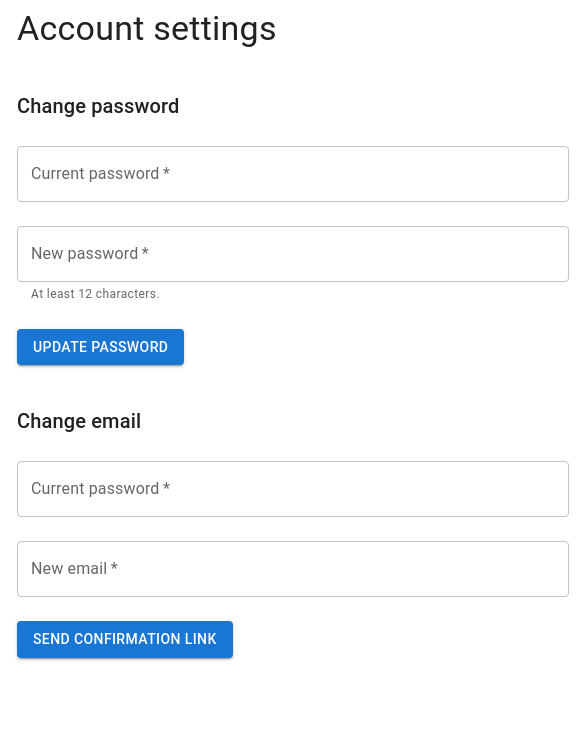
Test case: AccountPage › confirms the password change and clears the form on success
The image size is (586, 742).
In the password field labelled "Current password *" below "Change password": (293, 174) [17,146,569,202], type "the-old-password"
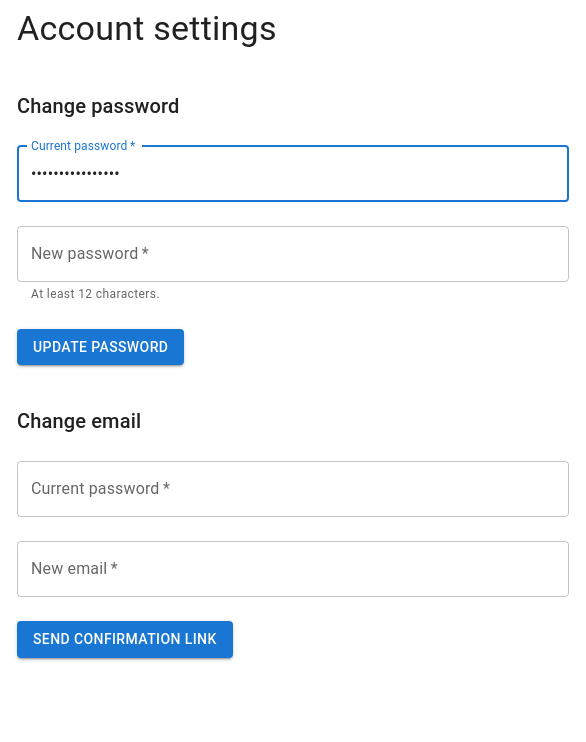
In the password field labelled "New password *": (293, 254) [17,226,569,282], type "a-brand-new-password"
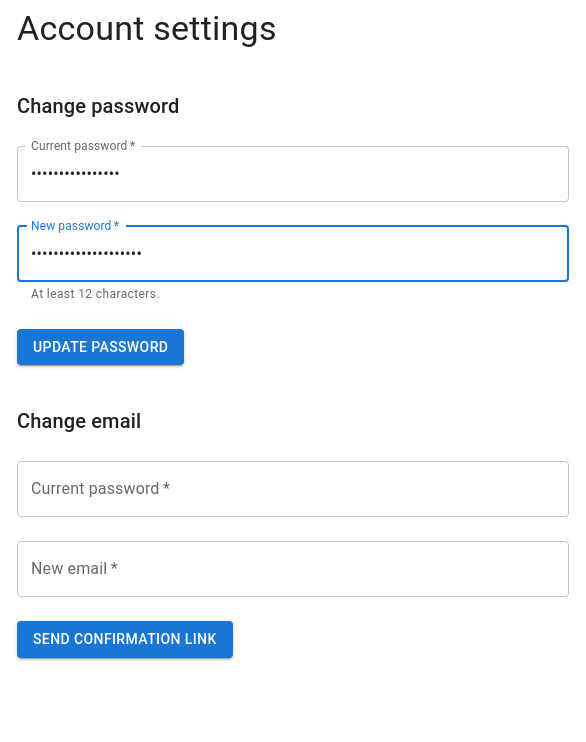
Click the button "Update password": (101, 347) [17,329,184,365]
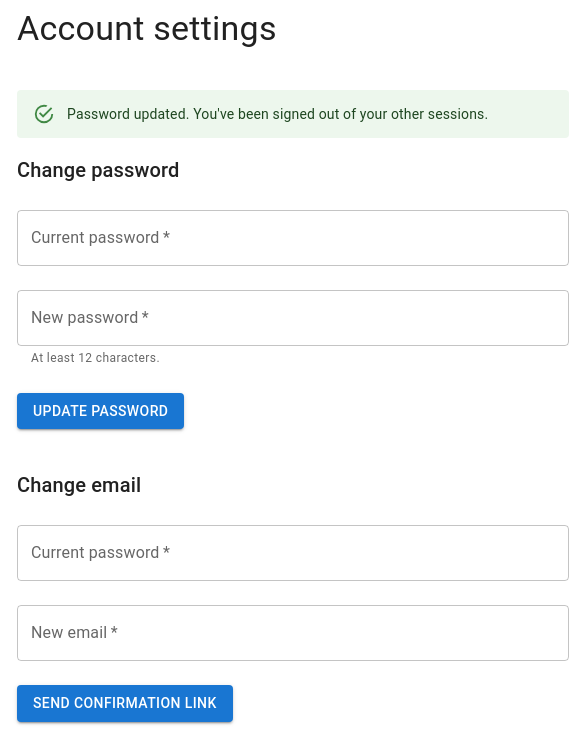
Expected: the text "signed out of your other sessions" is shown, [67,106,488,122]
Expected: the password field labelled "Current password *" below "Change password" is empty, [17,210,569,266]
